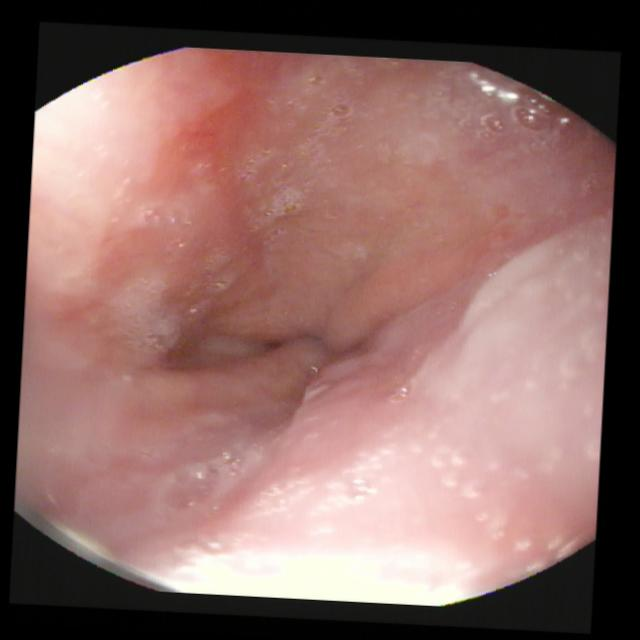Normal-Z-Line: (43, 45, 620, 444)
